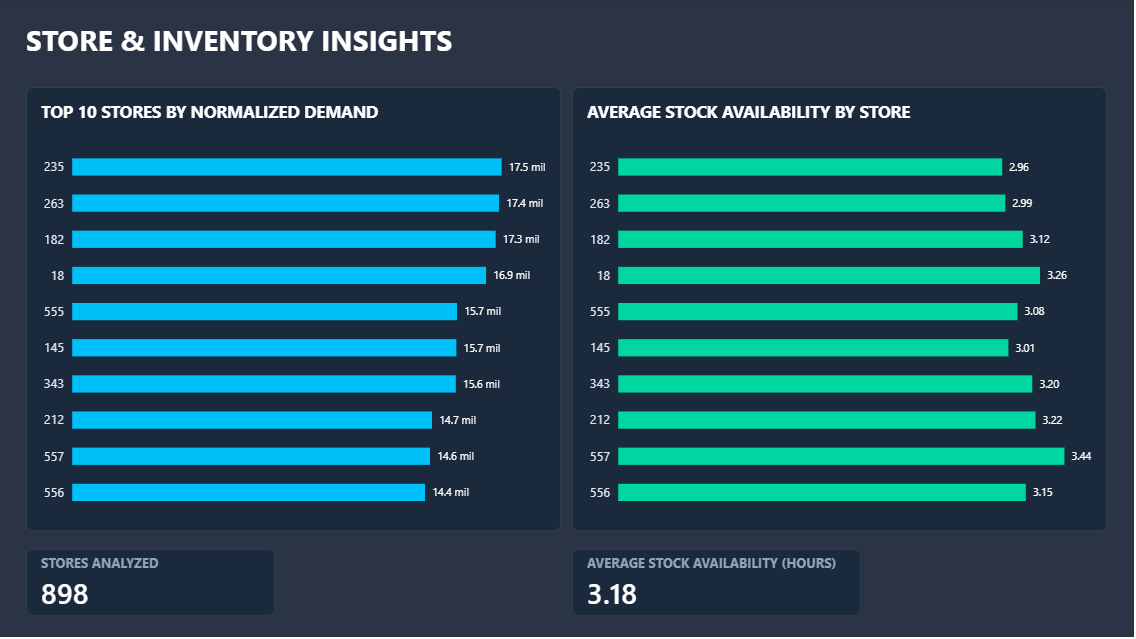

Layout of this report page (visuals, bound fields, positions):
{"tool":"powerbi","page":{"name":"Store & Inventory Insights","canvas":[1280,720],"ordinal":3},"visuals":[{"type":"clusteredBarChart","title":"TOP 10 STORES BY NORMALIZED DEMAND","fields":{"Category":["16_store_demand_summary.store_id"],"Y":["Sum(16_store_demand_summary.normalized_demand_total)"]},"box":[32,100,602,500],"z":0},{"type":"textbox","box":[32,25,800,45],"z":1000},{"type":"clusteredBarChart","title":"AVERAGE STOCK AVAILABILITY BY STORE","fields":{"Category":["16_store_demand_summary.store_id"],"Y":["Avg(16_store_demand_summary.average_stock_hours_6_22)"]},"box":[646,100,602,500],"z":2000},{"type":"cardVisual","title":"STORES ANALYZED","fields":{"Data":["Count(16_store_demand_summary.store_id)"]},"box":[32,620,280,75],"z":3000},{"type":"cardVisual","fields":{"Data":["16_store_demand_summary.Average Stock Availability"]},"box":[646,620,325,75],"z":4000}]}

Visuals, with their boxes in screenshot pixels (x1, y1, x2, y2), scaled from the page's 1280x720 canvas onto the 1136x639 screenshot:
"TOP 10 STORES BY NORMALIZED DEMAND" clusteredBarChart: (x1=28, y1=89, x2=563, y2=532)
textbox: (x1=28, y1=22, x2=738, y2=62)
"AVERAGE STOCK AVAILABILITY BY STORE" clusteredBarChart: (x1=573, y1=89, x2=1108, y2=532)
"STORES ANALYZED" cardVisual: (x1=28, y1=550, x2=277, y2=617)
cardVisual - 16_store_demand_summary.Average Stock Availability: (x1=573, y1=550, x2=862, y2=617)
